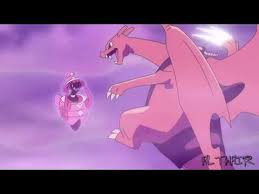charizard: (100, 25, 259, 170)
